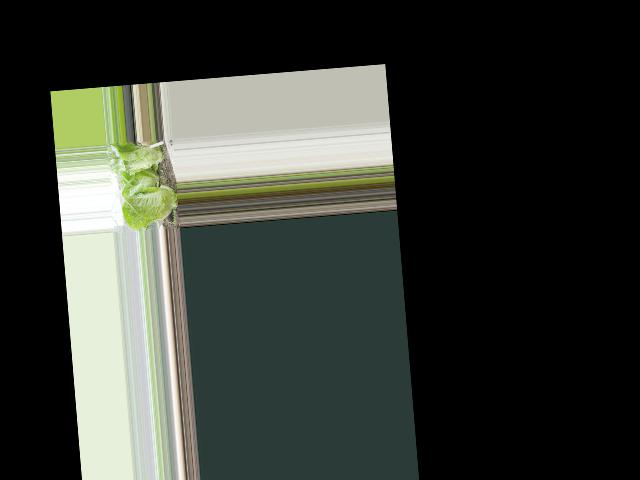lettuce: (111, 142, 170, 177)
